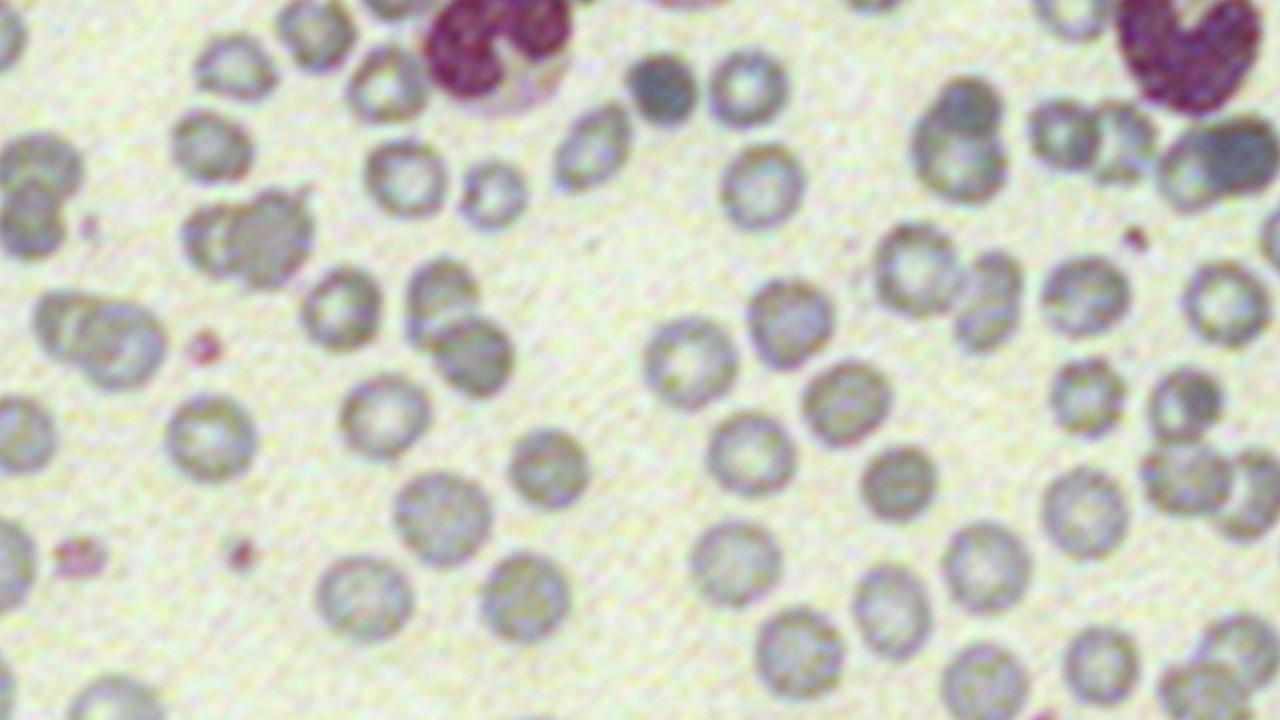Platelets: (74, 210, 104, 246)
RBC: (904, 79, 1016, 205), (382, 464, 499, 572), (4, 120, 90, 258), (680, 511, 792, 616), (307, 546, 420, 650), (635, 307, 742, 416), (866, 214, 965, 329), (156, 387, 268, 488), (736, 268, 840, 376), (937, 514, 1037, 622), (844, 554, 940, 666), (75, 290, 176, 396), (794, 354, 898, 456), (1031, 247, 1137, 347), (1035, 458, 1133, 566), (1170, 254, 1276, 353), (944, 241, 1030, 363), (223, 187, 321, 293), (699, 407, 805, 505), (333, 366, 437, 465), (712, 138, 812, 240), (1183, 602, 1279, 707), (545, 94, 637, 203), (396, 249, 486, 360), (1133, 431, 1237, 524), (160, 100, 262, 193), (700, 41, 796, 138), (25, 279, 119, 378), (294, 260, 390, 354), (357, 133, 455, 225), (1041, 348, 1131, 446), (184, 25, 287, 109), (338, 38, 432, 129), (1140, 359, 1228, 449), (170, 194, 256, 285), (448, 150, 534, 239), (1201, 109, 1279, 203), (0, 173, 69, 266), (0, 0, 32, 85)
WBC: (416, 0, 578, 124)
